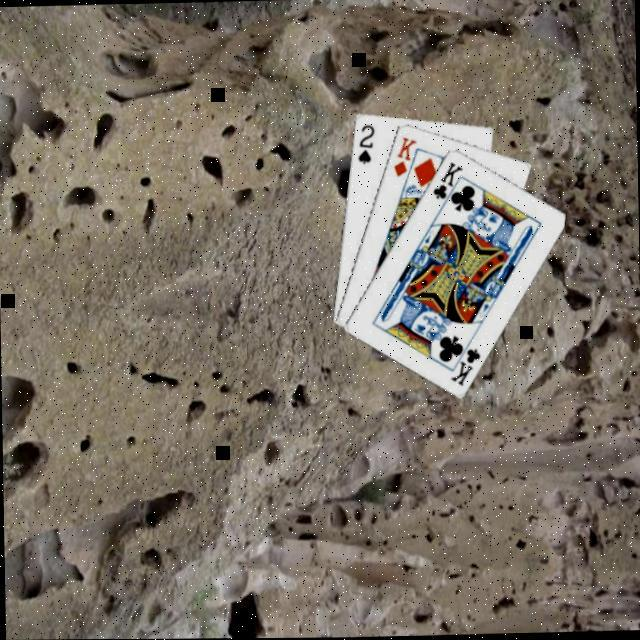2S: (354, 119, 380, 165)
KC: (448, 334, 486, 387), (430, 156, 468, 207)
KD: (390, 131, 420, 177)
